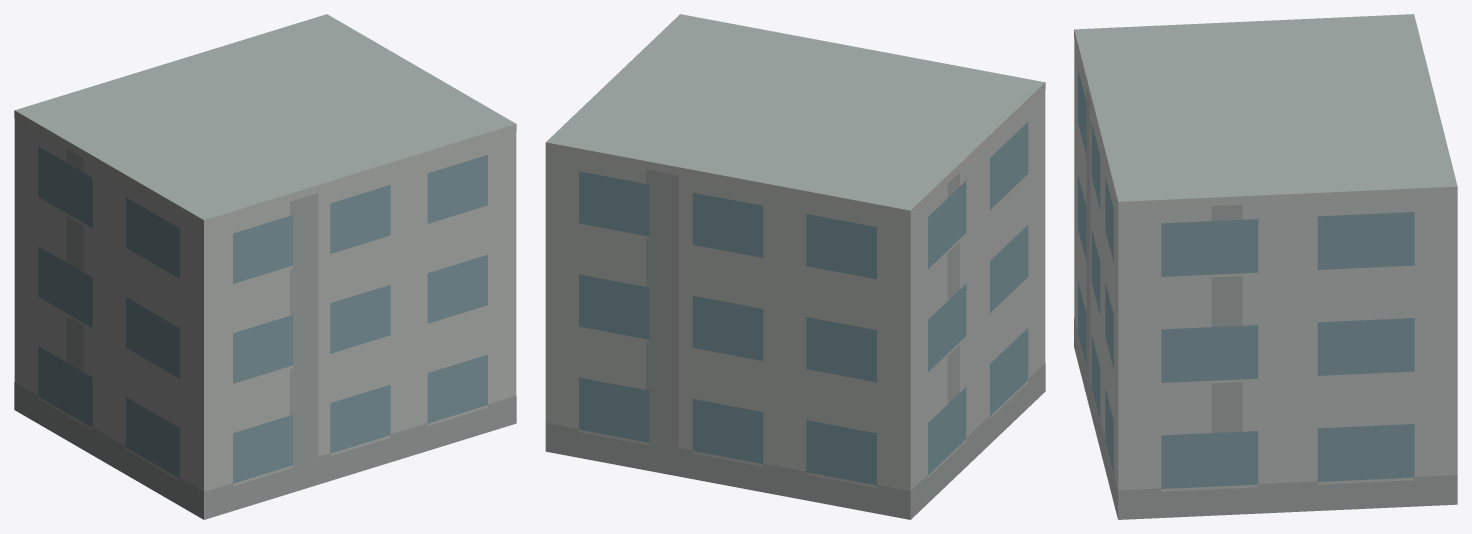
Rendered from residential-4dcb377b-68e0-48df-8e30-975d0d077705.glb.
3 views of the same model, side by side, from view 1: azimuth 30°, elevation 25°; view 2: azimuth 150°, elevation 25°; view 3: azimuth 270°, elevation 25° (orthographic). The views are drawn at different scales.
Visible parts, largest first — view 1: residential-4dcb377b-68e0-48df-8e30-975d0d077705.tmp; view 2: residential-4dcb377b-68e0-48df-8e30-975d0d077705.tmp; view 3: residential-4dcb377b-68e0-48df-8e30-975d0d077705.tmp.
Boxes of the visible parts, bbox=[...] form: residential-4dcb377b-68e0-48df-8e30-975d0d077705.tmp: bbox=[14, 14, 516, 519]; residential-4dcb377b-68e0-48df-8e30-975d0d077705.tmp: bbox=[545, 14, 1045, 519]; residential-4dcb377b-68e0-48df-8e30-975d0d077705.tmp: bbox=[1074, 14, 1457, 519].
Bounding box in the file's own units: 11.6 × 9.15 × 10.01.
